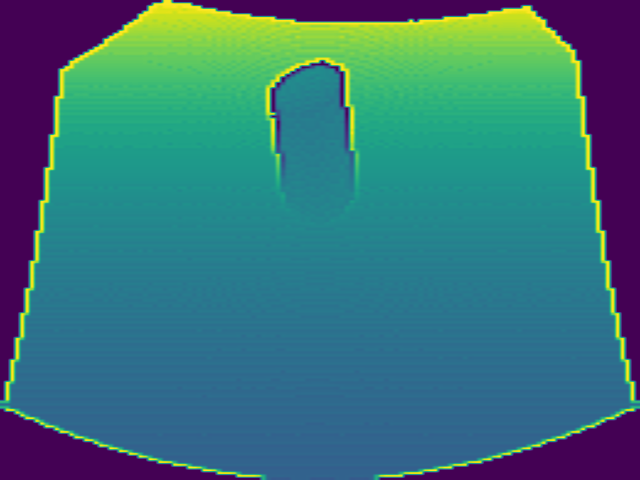cylinder: (266, 58, 359, 221)
